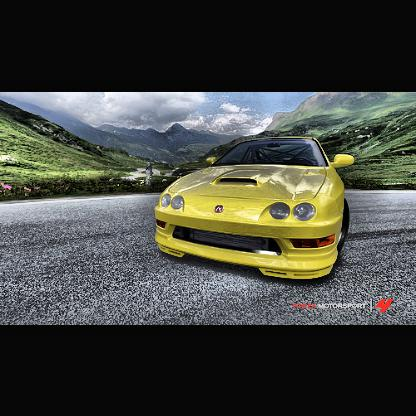Acura Integra Type R 2001: (151, 134, 355, 284)
